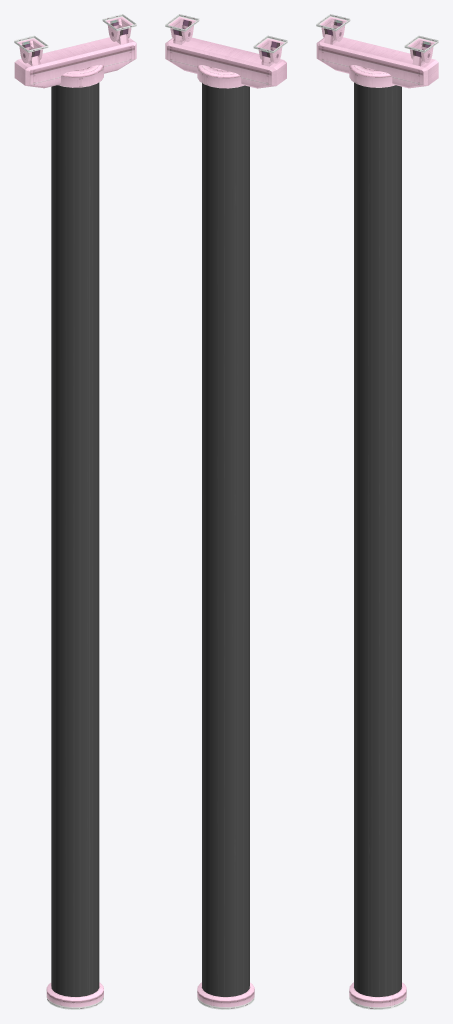
File: support_magnetic.fbx
3 views of the same model, side by side, from view 1: azimuth 30°, elevation 25°; view 2: azimuth 150°, elevation 25°; view 3: azimuth 330°, elevation 25° (orthographic).
Visible parts, largest first — view 1: support_pylon, support_hinge_base, support_hinge, support_ground, support_top; view 2: support_pylon, support_hinge_base, support_hinge, support_ground, support_top; view 3: support_pylon, support_hinge_base, support_hinge, support_ground, support_top.
Boxes of the visible parts, x1,y1,x2,y2 form: support_pylon: [51, 82, 99, 996]; support_hinge_base: [14, 25, 136, 88]; support_hinge: [14, 14, 136, 63]; support_ground: [46, 982, 103, 1009]; support_top: [57, 64, 103, 87]; support_pylon: [202, 83, 249, 996]; support_hinge_base: [165, 25, 286, 88]; support_hinge: [165, 14, 287, 63]; support_ground: [197, 982, 254, 1009]; support_top: [197, 65, 244, 88]; support_pylon: [354, 82, 401, 996]; support_hinge_base: [316, 25, 438, 88]; support_hinge: [316, 14, 438, 63]; support_ground: [349, 982, 406, 1009]; support_top: [349, 65, 395, 87].
Size of the model in its own units: 2243 by 18607 by 1008.
